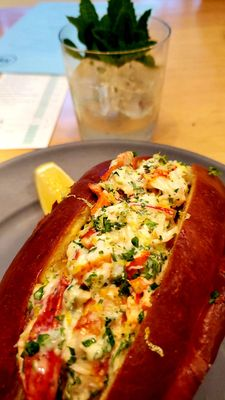pizza: (60, 11, 173, 141)
